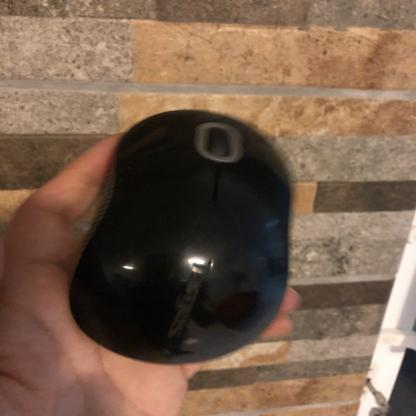mouse: (76, 107, 287, 369)
